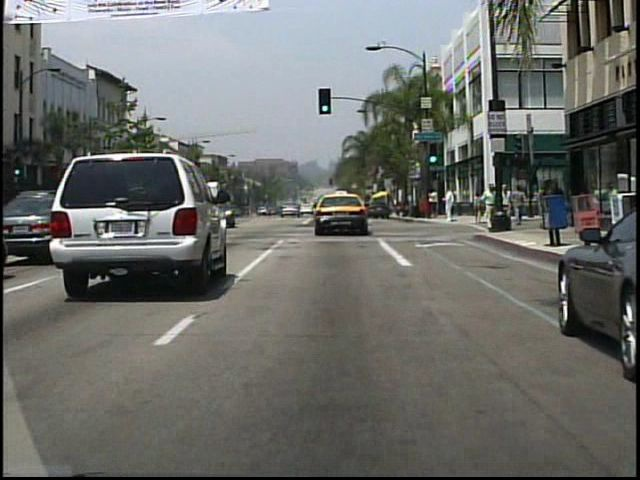person: (484, 185, 503, 232), (479, 181, 495, 234), (512, 184, 528, 229), (498, 183, 513, 229), (470, 191, 483, 227), (444, 188, 456, 223), (501, 190, 513, 225), (426, 187, 438, 219)
